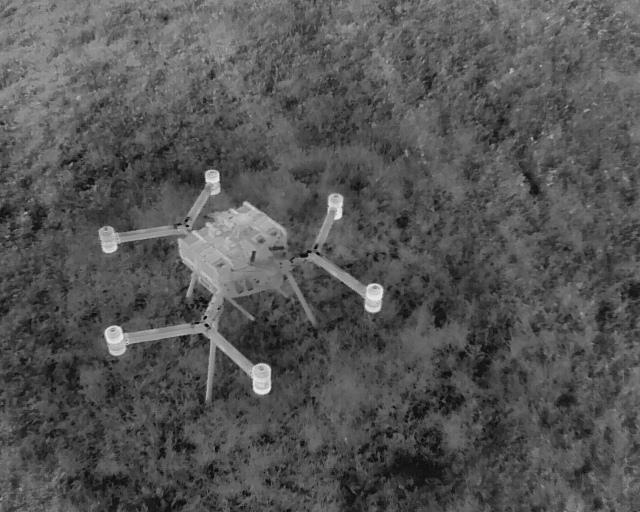drone: (50, 142, 418, 428)
